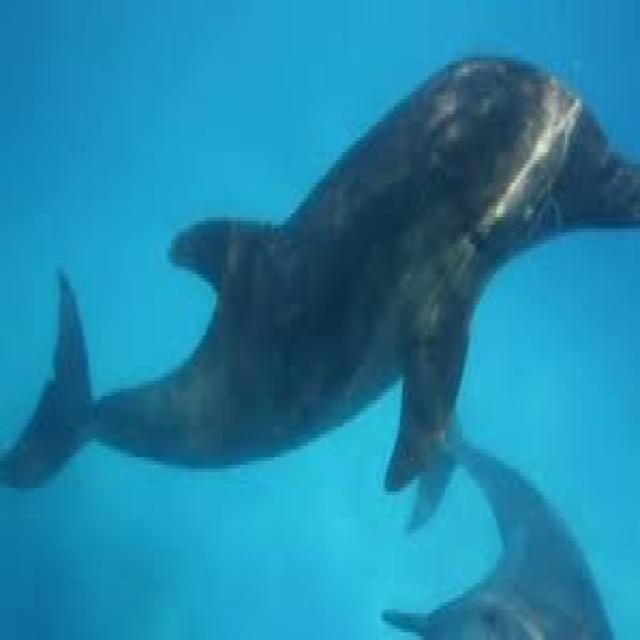dolphin: (2, 53, 640, 507)
